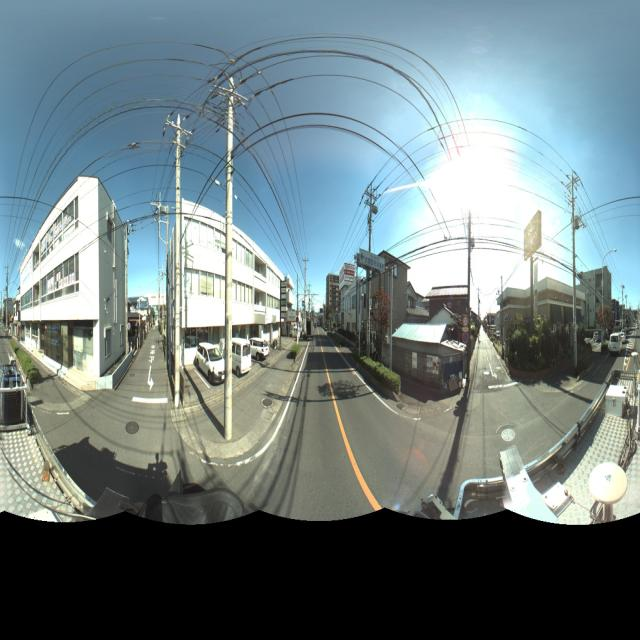b_1: (20, 170, 136, 374), (164, 200, 280, 374), (389, 302, 466, 396), (495, 274, 586, 338), (365, 246, 409, 354), (580, 261, 616, 337), (340, 272, 368, 342), (278, 271, 298, 343), (324, 266, 346, 318)
